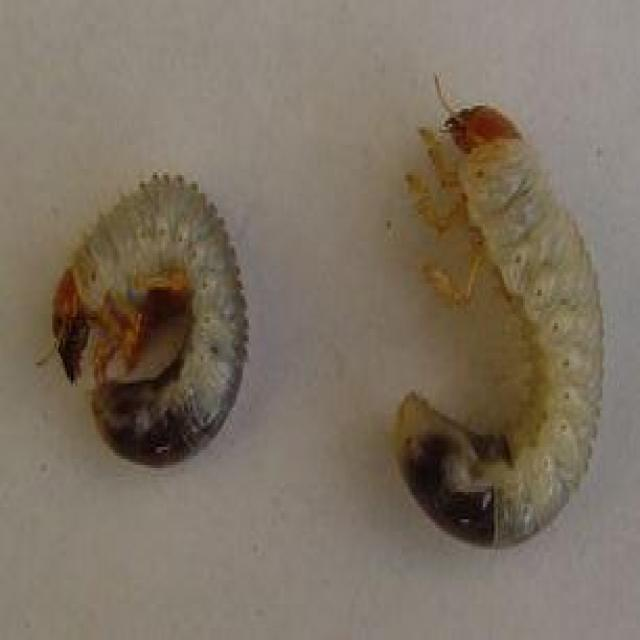Grub-Adult-: (367, 43, 612, 572), (28, 154, 270, 478)
